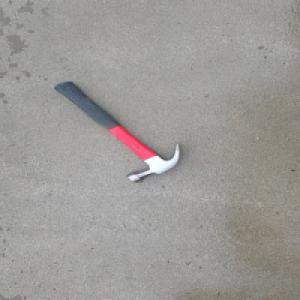Hammer: (49, 79, 180, 183)
